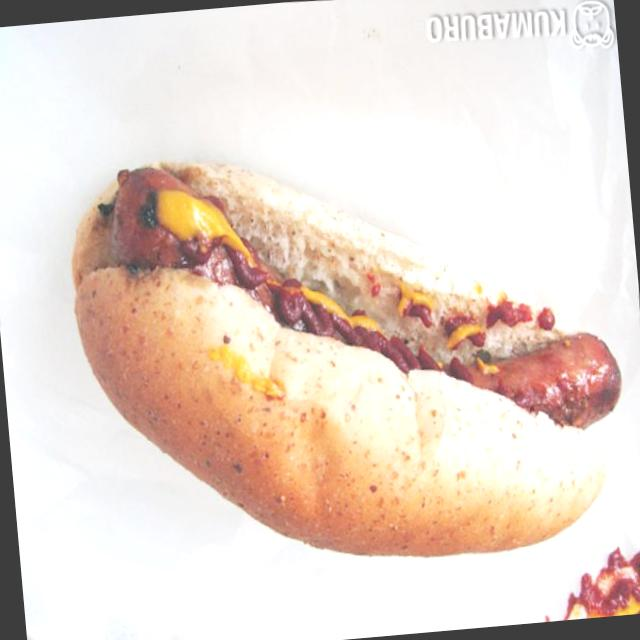Hot Dog: (36, 97, 638, 604)
